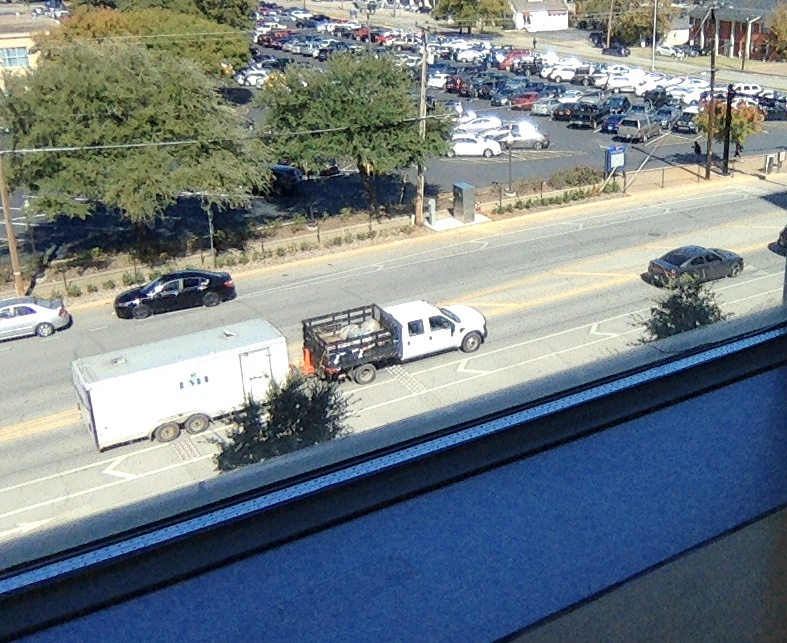car: (300, 300, 487, 384)
